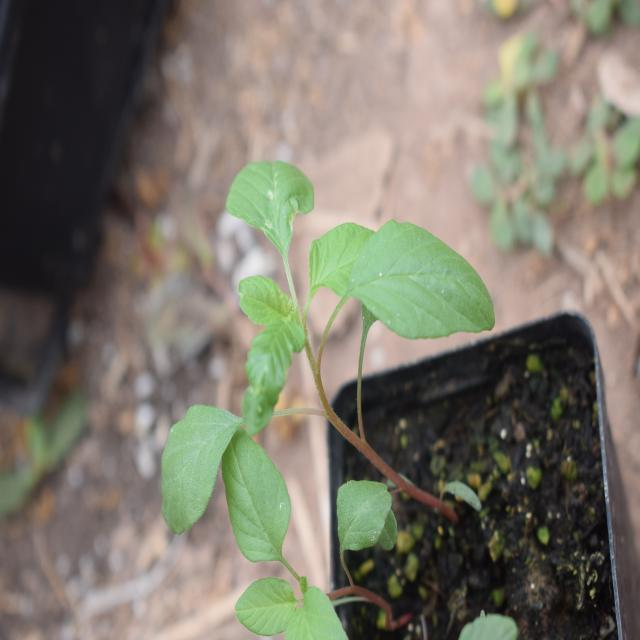pigweed: (122, 139, 502, 477)
